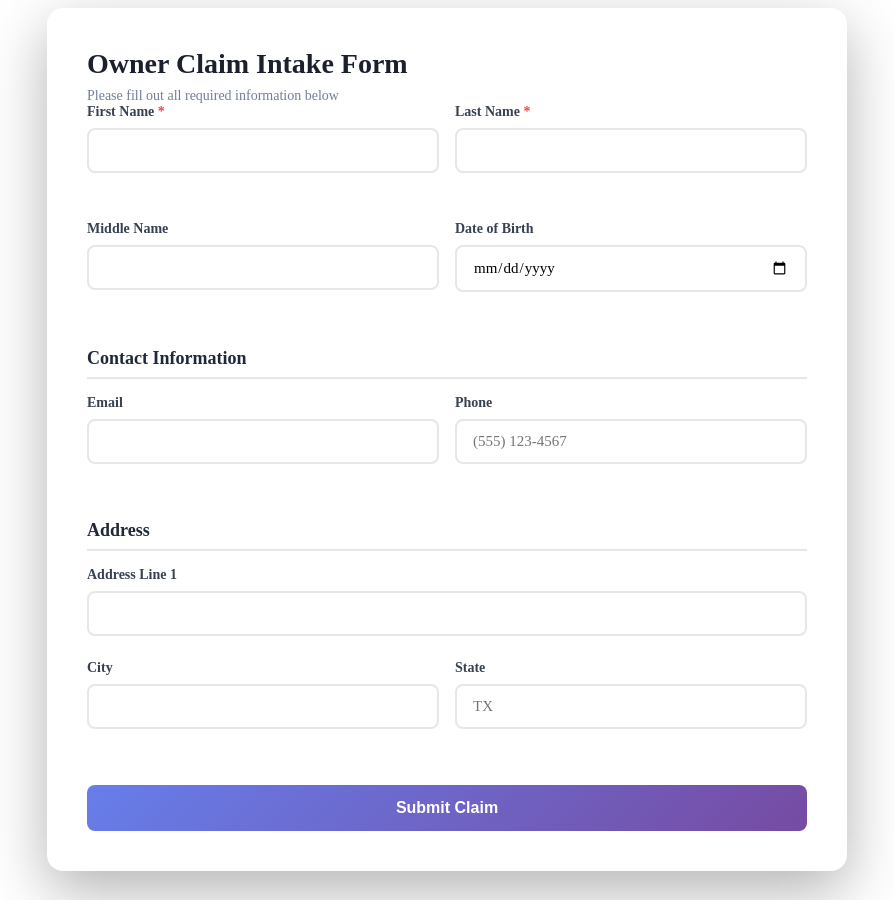
Scenario: OwnerClaimIntakeForm › displays validation errors for invalid phone
The image size is (895, 900).
# Fill in required fields first
Type "John" into the field labelled "First Name *" at [263, 150], box [87,128,439,173]
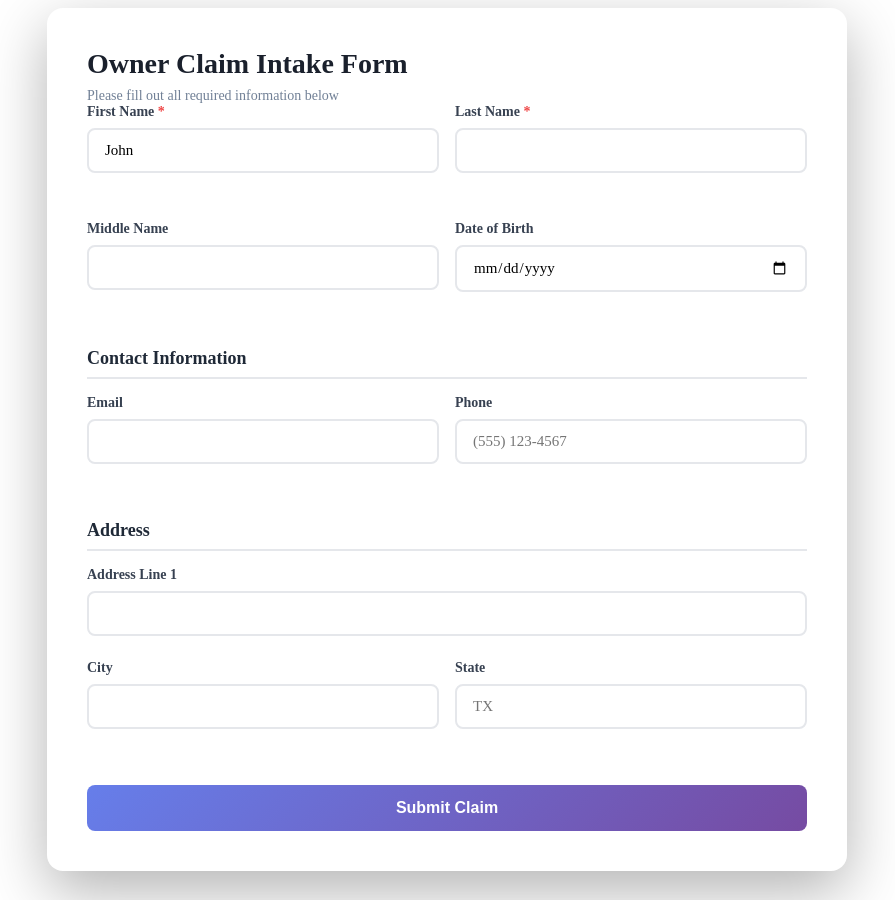
Type "Doe" into the field labelled "Last Name *" at [631, 150], box [455,128,807,173]
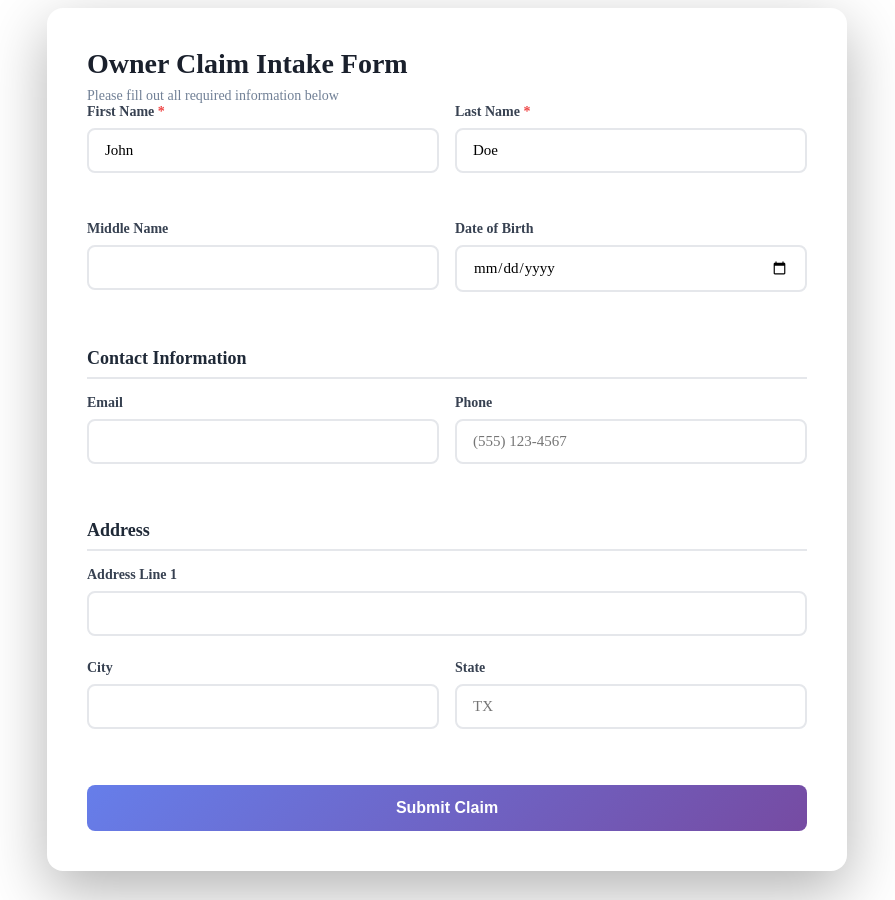
# Fill in invalid phone (too short)
Type "123" into the field labelled "Phone" at [631, 442], box [455,419,807,464]
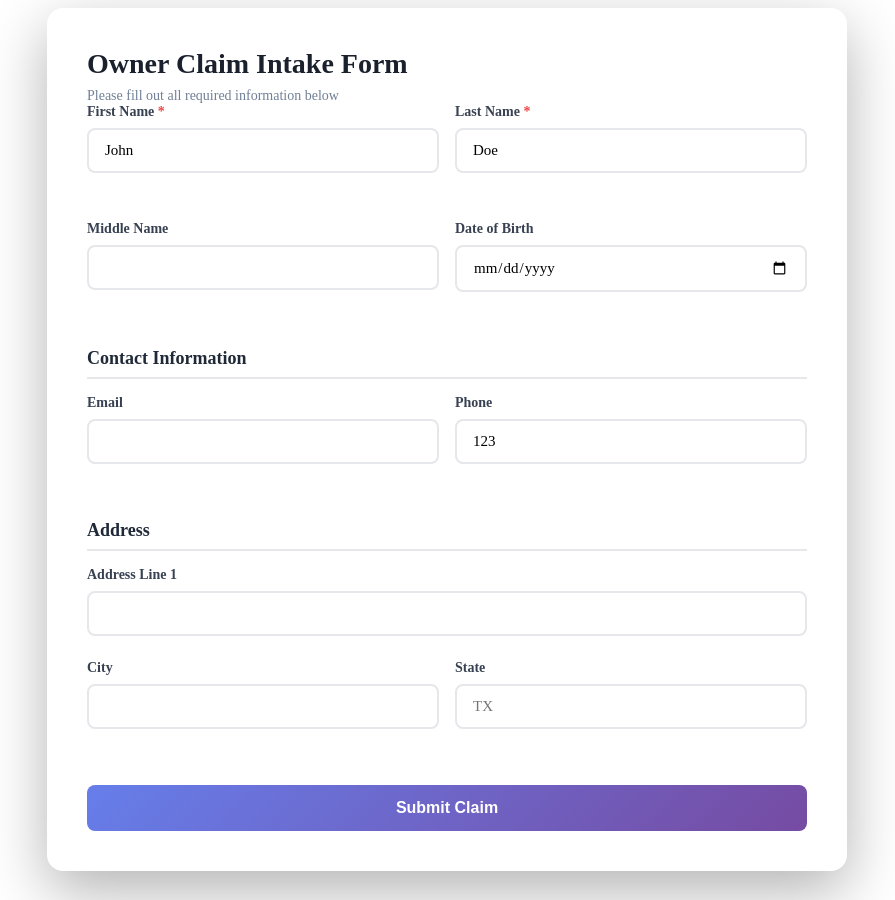
# Try to submit
Click the button "Submit Claim" at [447, 808], box [87,785,807,831]
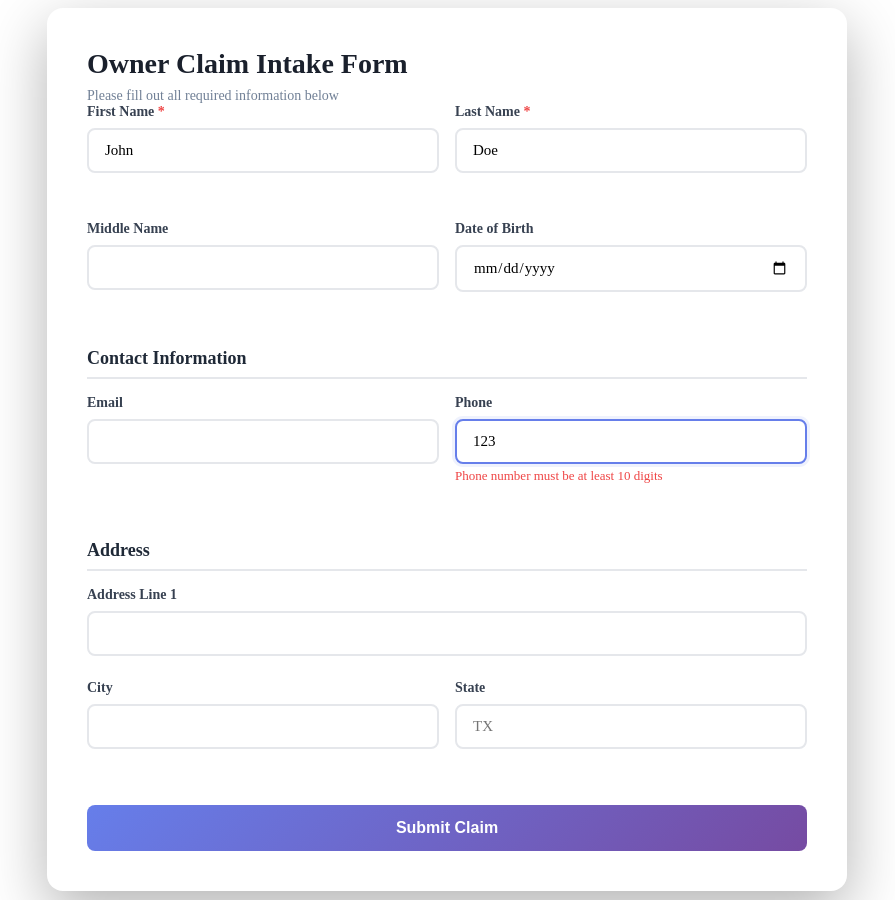
Result: the text "Phone number must be at least 10 digits" is shown at [455,468,663,483]
